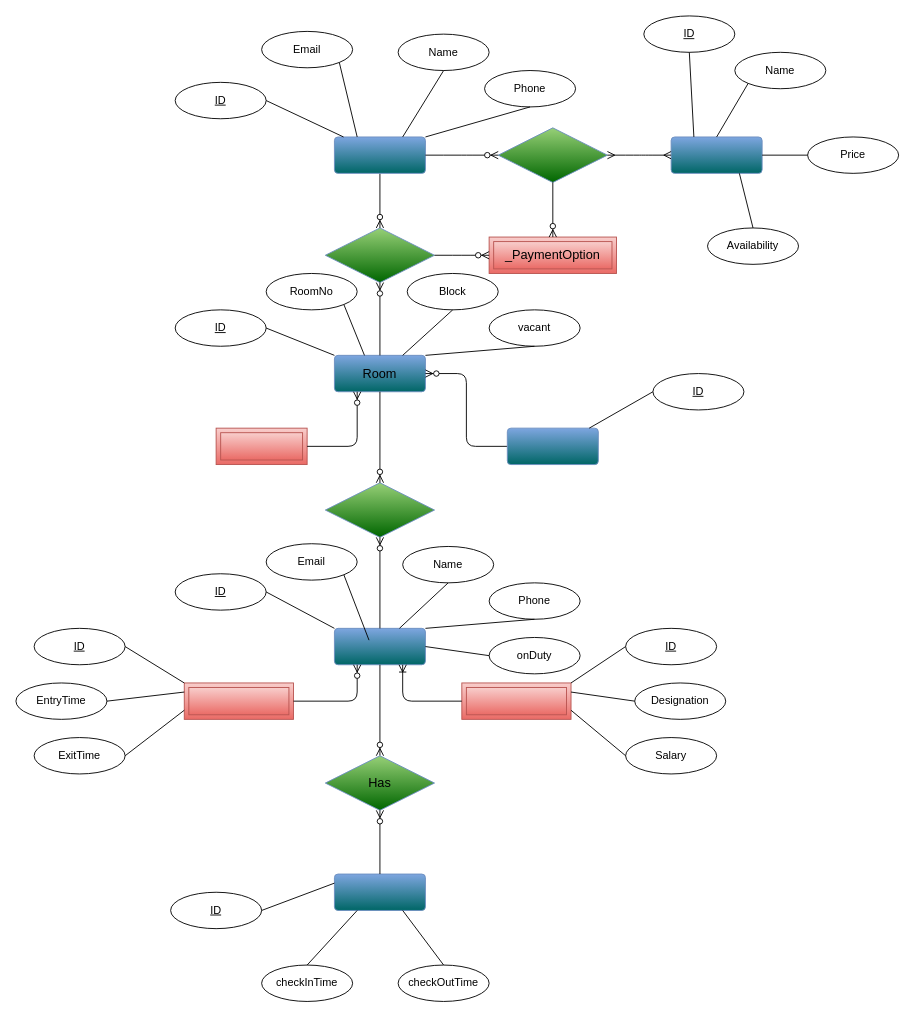
Some shapes in this 915 by 1017 pixel diagram are drawn without their labels. Each missing label, with the box of its shape:
_Designation: (461, 682, 571, 719)
_RoomType: (215, 427, 307, 465)
_StaffShift: (183, 682, 293, 719)
booking: (324, 227, 435, 283)
FoodItem: (670, 136, 762, 173)
FoodOrders: (497, 127, 607, 182)
Guest: (334, 136, 425, 173)
GuestHouse: (506, 427, 598, 465)
Log: (334, 873, 425, 910)
maintenance: (324, 482, 435, 537)
Staff: (334, 627, 425, 665)
